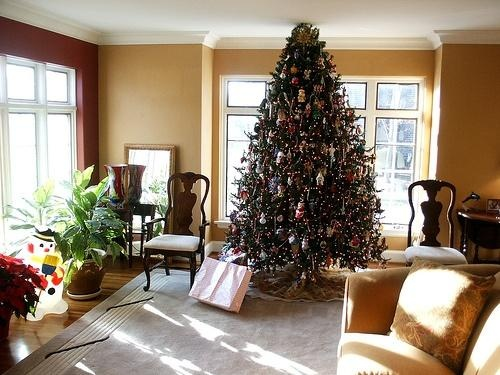chair: (139, 173, 210, 293), (408, 181, 467, 269)
pottedplant: (32, 165, 129, 301), (1, 254, 41, 339)
sofa: (341, 258, 500, 375)
